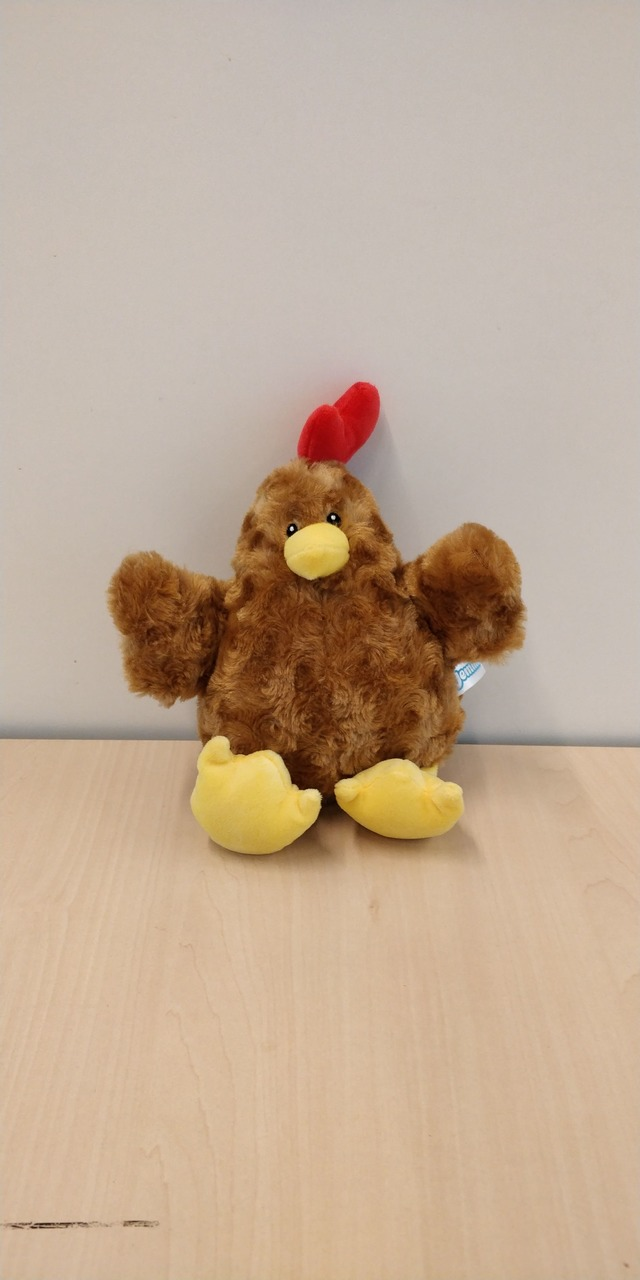fakeChicken: (108, 379, 530, 860)
